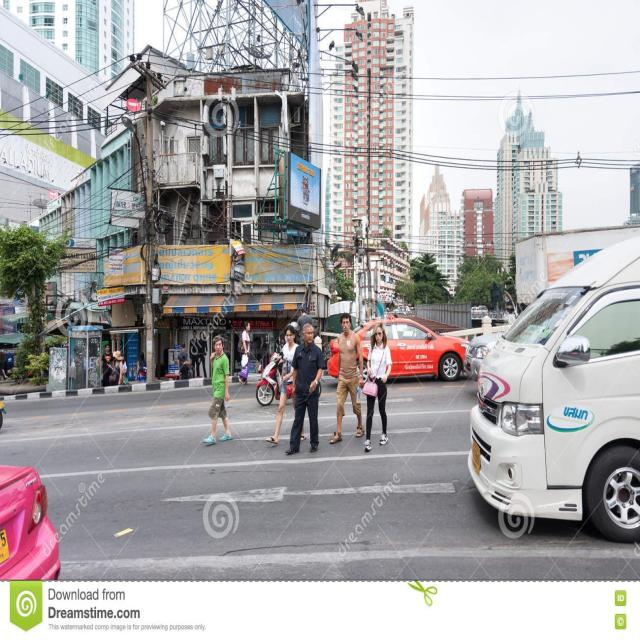body: (284, 322, 327, 455), (263, 322, 308, 446), (188, 326, 288, 381), (326, 310, 366, 446), (361, 321, 394, 454), (202, 335, 234, 445), (279, 324, 299, 396), (236, 318, 251, 386), (295, 306, 313, 344), (100, 344, 115, 388), (533, 323, 556, 349), (176, 341, 190, 380), (134, 350, 148, 384), (112, 350, 124, 386), (81, 348, 91, 389), (300, 175, 310, 208), (179, 354, 190, 380), (0, 350, 8, 380), (396, 302, 411, 317), (121, 354, 127, 386)
